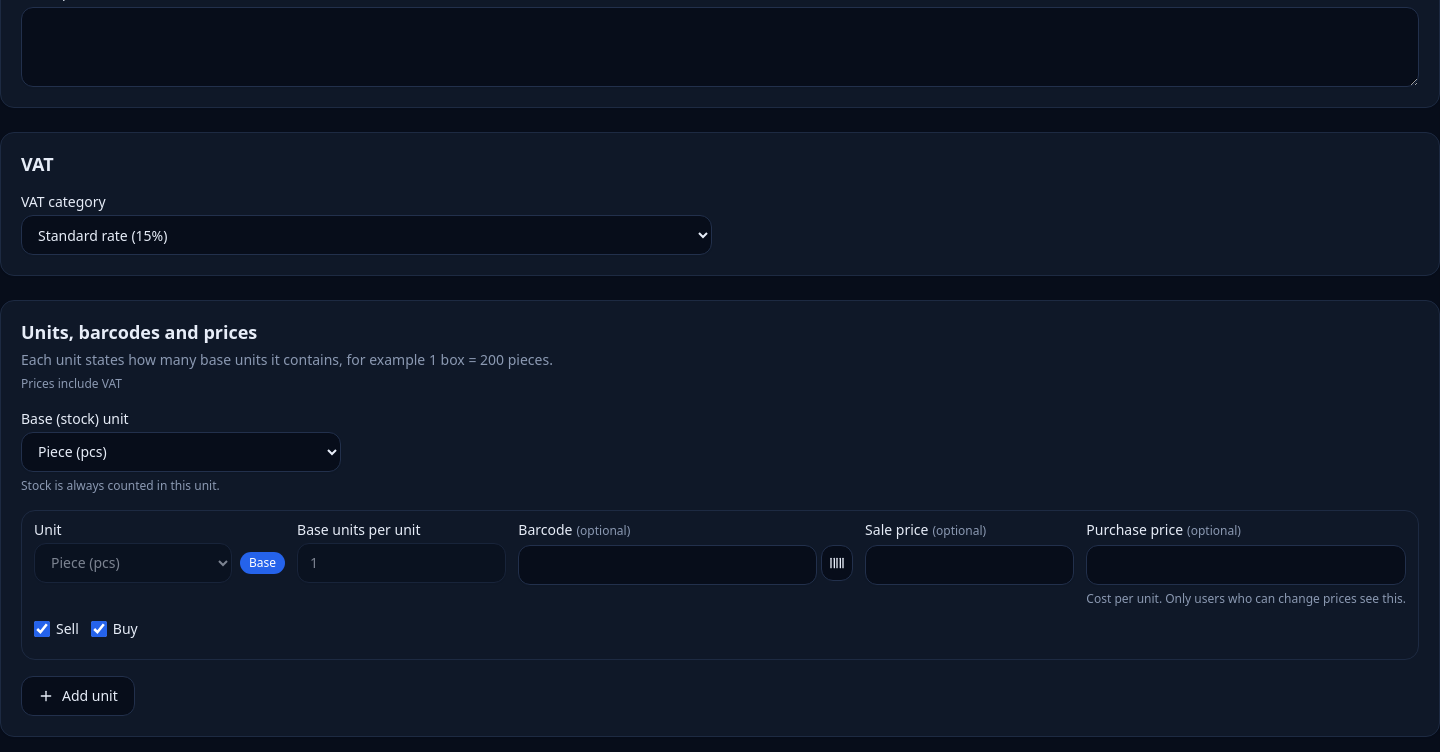
Test: ProductForm › suggests standard factors (dozen = 12 pieces)
The image size is (1440, 752).
(page scrolled)
Click the button "Add unit" at (78, 696), box x1=21 y1=676 x2=135 y2=716
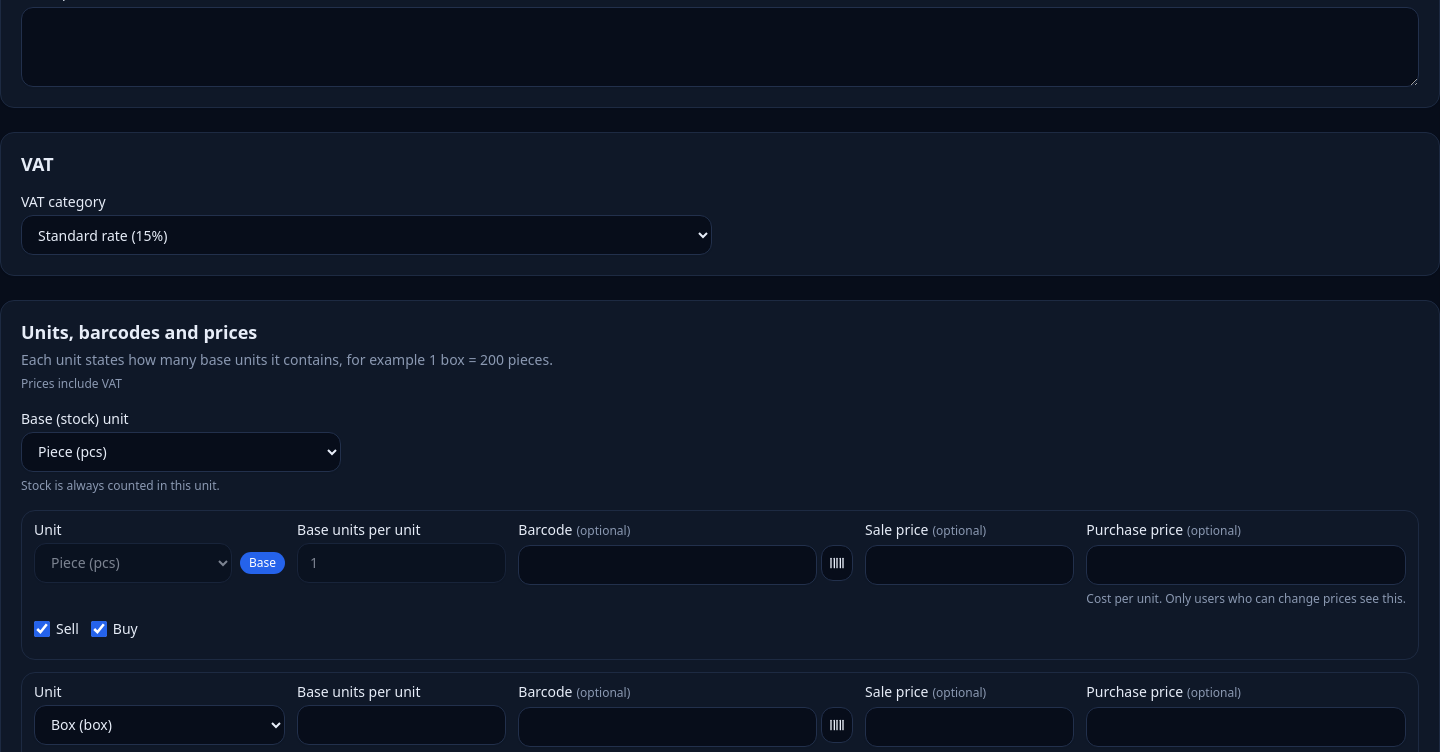
Select "Dozen (dozen)" in the 2nd dropdown labelled "Unit" at (160, 724), box x1=34 y1=704 x2=285 y2=744
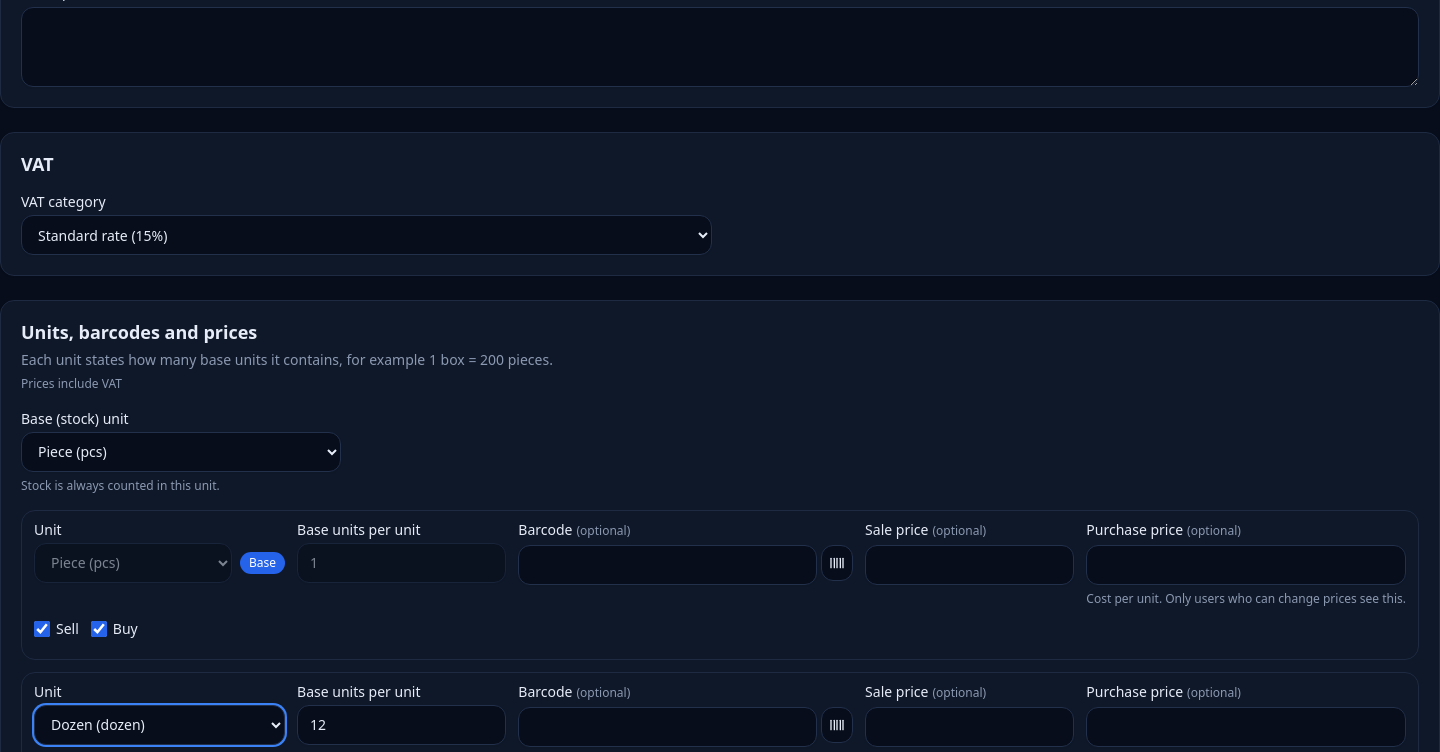
expect the 2nd field labelled "Base units per unit" holds "12": met, box x1=297 y1=704 x2=506 y2=744
